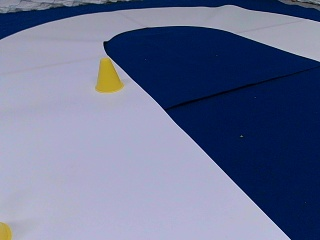cone: (94, 58, 122, 92)
